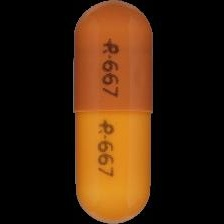60760-035: (0, 0, 224, 224)
